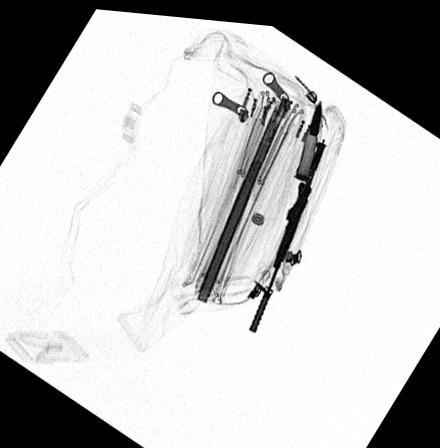Bullet: (294, 93, 321, 175)
Gun: (247, 135, 326, 326)
